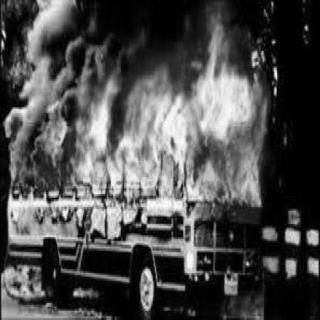Smoke: (19, 0, 207, 90)
